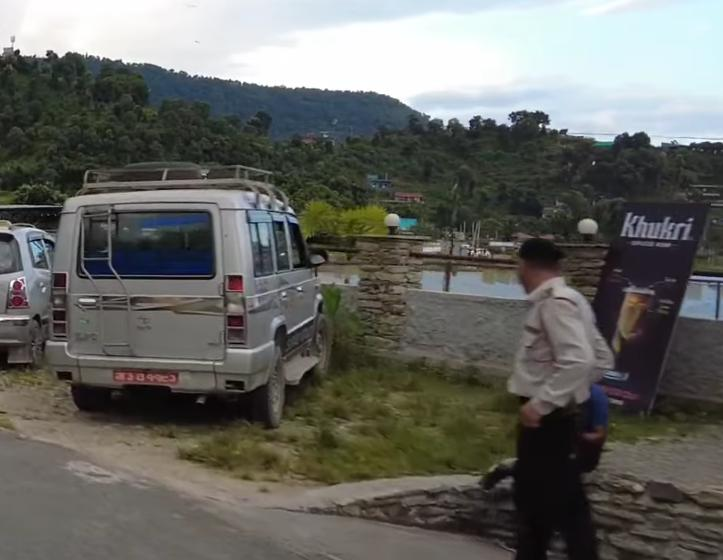SUV: (35, 161, 348, 443)
taxi: (0, 218, 58, 367)
